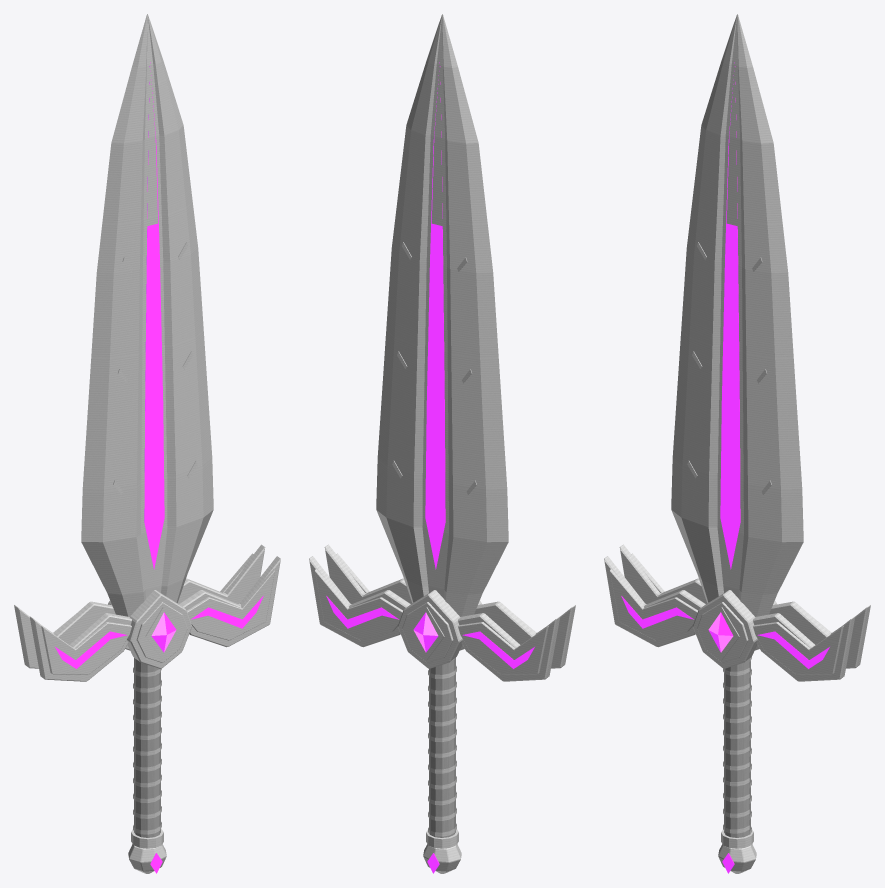
The model's file is VoidKnight-Riftkeeper.glb.
3 views of the same model, side by side, from view 1: azimuth 30°, elevation 25°; view 2: azimuth 150°, elevation 25°; view 3: azimuth 330°, elevation 25° (orthographic).
Visible parts, largest first — view 1: VKS_Blade_ForgedFacets, VKS_Recessed_Rift_Channel_-1, VKS_Grip_LeatherCore, VKS_Quillon_Obsidian_-1_1, VKS_Quillon_Obsidian_-1_-1, VKS_Quillon_Rim_1_-1, VKS_Quillon_Rim_-1_-1, VKS_Core_Housing_-1, VKS_Quillon_Rim_-1_1, VKS_Quillon_Rim_1_1, VKS_Core_Bezel_-1, VKS_Pommel_Counterweight (+3 smaller); view 2: VKS_Blade_ForgedFacets, VKS_Recessed_Rift_Channel_1, VKS_Grip_LeatherCore, VKS_Quillon_Obsidian_1_1, VKS_Quillon_Obsidian_1_-1, VKS_Quillon_Rim_-1_-1, VKS_Quillon_Rim_1_-1, VKS_Core_Housing_1, VKS_Quillon_Rim_1_1, VKS_Quillon_Rim_-1_1, VKS_Core_Bezel_1, VKS_Pommel_Counterweight (+3 smaller); view 3: VKS_Blade_ForgedFacets, VKS_Recessed_Rift_Channel_-1, VKS_Grip_LeatherCore, VKS_Quillon_Obsidian_-1_-1, VKS_Quillon_Obsidian_-1_1, VKS_Quillon_Rim_1_1, VKS_Quillon_Rim_-1_1, VKS_Core_Housing_-1, VKS_Quillon_Rim_-1_-1, VKS_Quillon_Rim_1_-1, VKS_Core_Bezel_-1, VKS_Pommel_Counterweight (+3 smaller).
Part boxes in pixels (box(x1,y1,x2,y2)): VKS_Blade_ForgedFacets: box(81, 14, 213, 616); VKS_Recessed_Rift_Channel_-1: box(144, 62, 164, 569); VKS_Grip_LeatherCore: box(134, 658, 160, 837); VKS_Quillon_Obsidian_-1_1: box(187, 569, 275, 640); VKS_Quillon_Obsidian_-1_-1: box(41, 622, 131, 674); VKS_Quillon_Rim_1_-1: box(14, 601, 115, 668); VKS_Quillon_Rim_-1_-1: box(30, 613, 131, 681); VKS_Core_Housing_-1: box(127, 590, 191, 668); VKS_Quillon_Rim_-1_1: box(179, 556, 280, 647); VKS_Quillon_Rim_1_1: box(177, 544, 265, 603); VKS_Core_Bezel_-1: box(136, 602, 187, 662); VKS_Pommel_Counterweight: box(128, 844, 166, 873); VKS_Blade_ForgedFacets: box(376, 14, 508, 616); VKS_Recessed_Rift_Channel_1: box(425, 62, 445, 569); VKS_Grip_LeatherCore: box(429, 658, 455, 837); VKS_Quillon_Obsidian_1_1: box(314, 569, 402, 640); VKS_Quillon_Obsidian_1_-1: box(458, 622, 548, 674); VKS_Quillon_Rim_-1_-1: box(474, 601, 575, 668); VKS_Quillon_Rim_1_-1: box(458, 613, 559, 681); VKS_Core_Housing_1: box(398, 590, 462, 668); VKS_Quillon_Rim_1_1: box(309, 556, 410, 647); VKS_Quillon_Rim_-1_1: box(324, 544, 412, 603); VKS_Core_Bezel_1: box(402, 602, 453, 662); VKS_Pommel_Counterweight: box(423, 844, 461, 873); VKS_Blade_ForgedFacets: box(671, 14, 803, 616); VKS_Recessed_Rift_Channel_-1: box(720, 62, 740, 569); VKS_Grip_LeatherCore: box(724, 659, 750, 837); VKS_Quillon_Obsidian_-1_-1: box(609, 569, 697, 640); VKS_Quillon_Obsidian_-1_1: box(753, 622, 843, 674); VKS_Quillon_Rim_1_1: box(769, 601, 870, 668); VKS_Quillon_Rim_-1_1: box(753, 613, 854, 681); VKS_Core_Housing_-1: box(693, 590, 757, 668); VKS_Quillon_Rim_-1_-1: box(604, 556, 705, 647); VKS_Quillon_Rim_1_-1: box(619, 544, 707, 603); VKS_Core_Bezel_-1: box(697, 602, 748, 662); VKS_Pommel_Counterweight: box(718, 844, 756, 873).
Bounding box in the file's own units: 0.4933 × 1.63 × 0.134.
5 materials, 3 textured.
